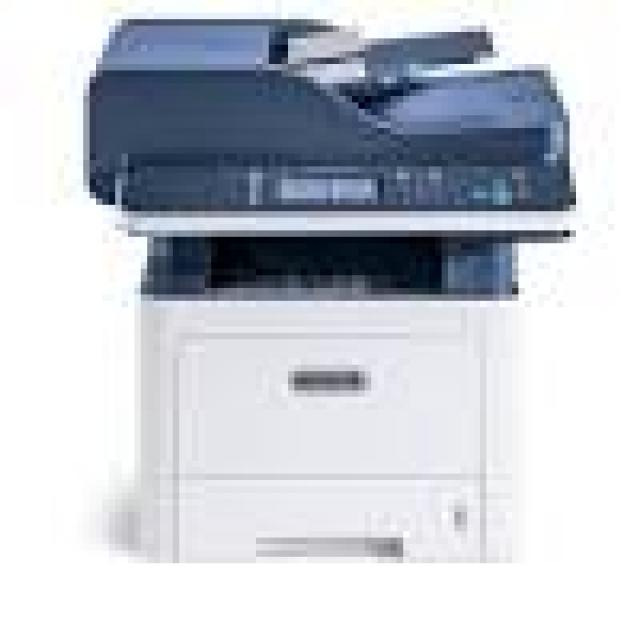printer: (81, 4, 600, 586)
